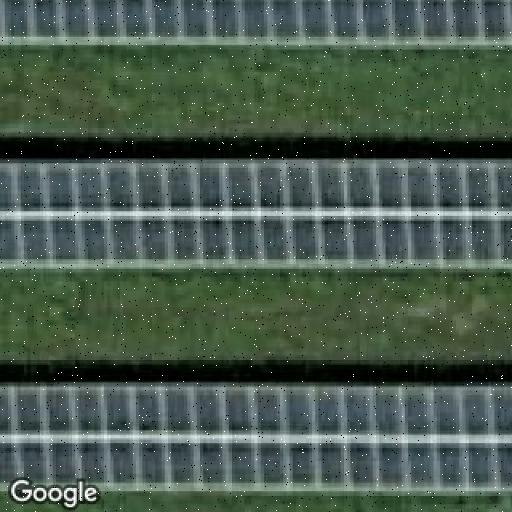solar-panel: (0, 157, 512, 272), (0, 384, 512, 488), (0, 0, 512, 45)
